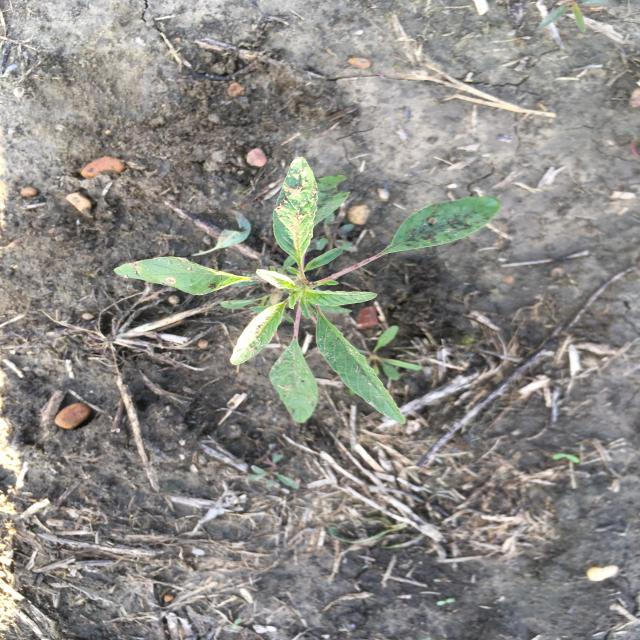Waterhemp: (110, 153, 503, 428)
